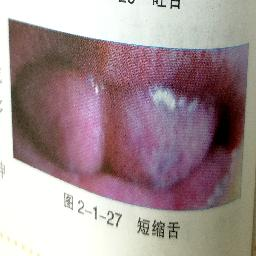tongue: (16, 61, 227, 190)
